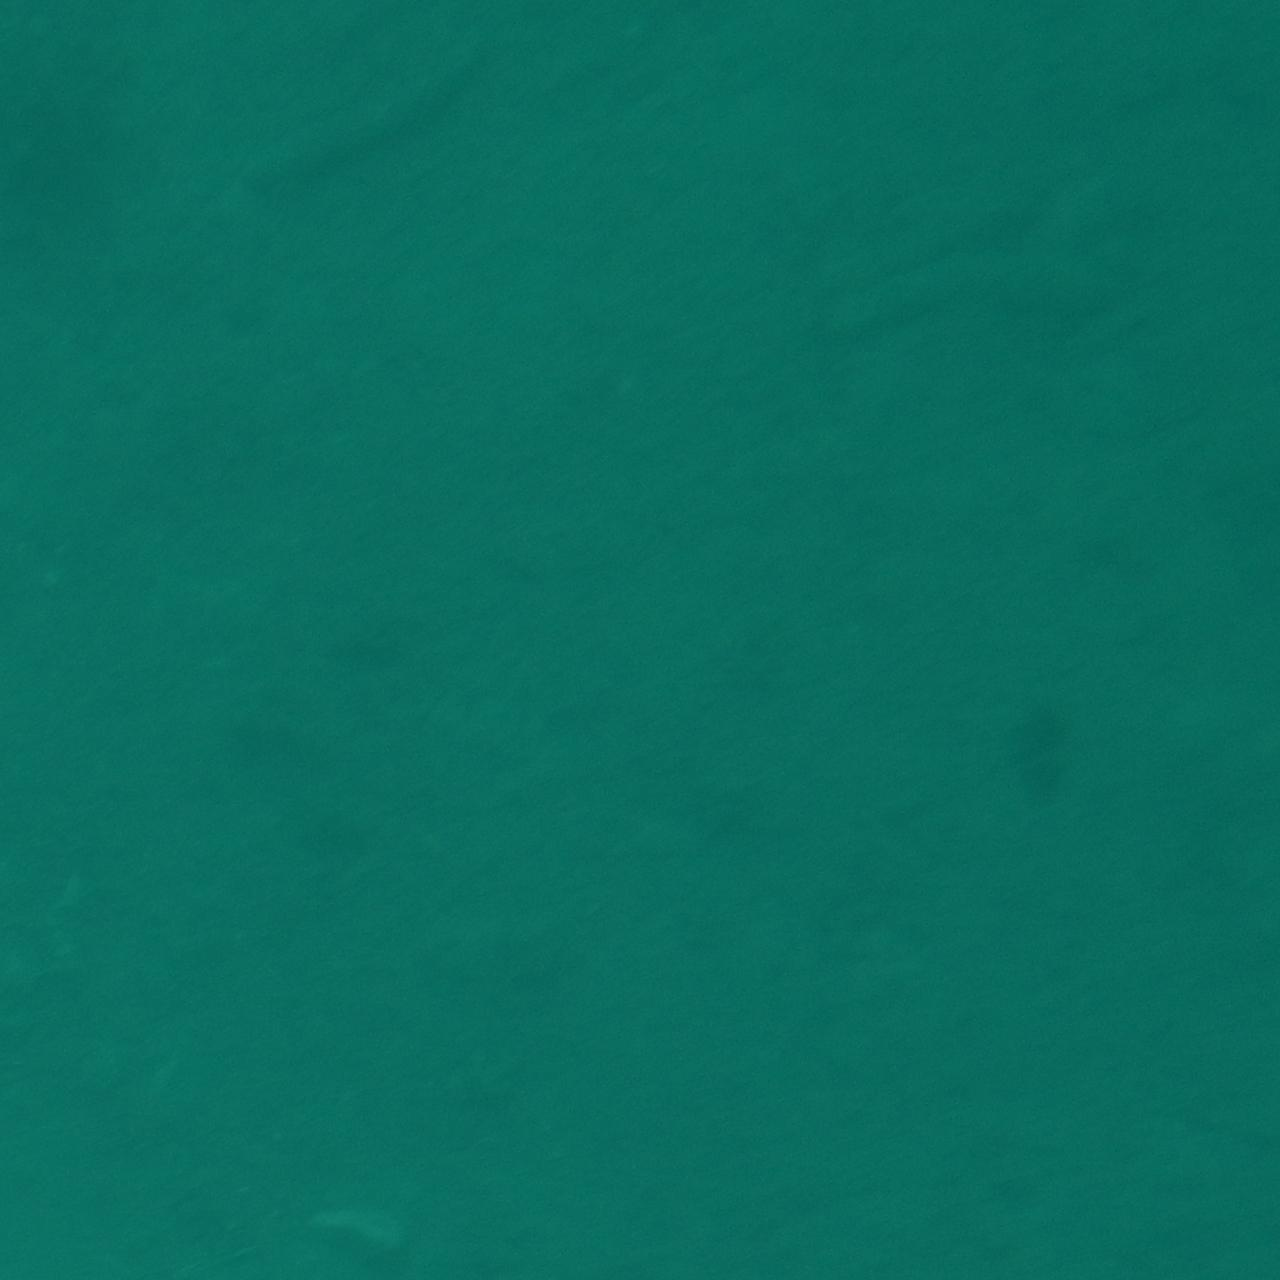Holothuria tubulosa: (826, 215, 1176, 365), (219, 39, 517, 205)
